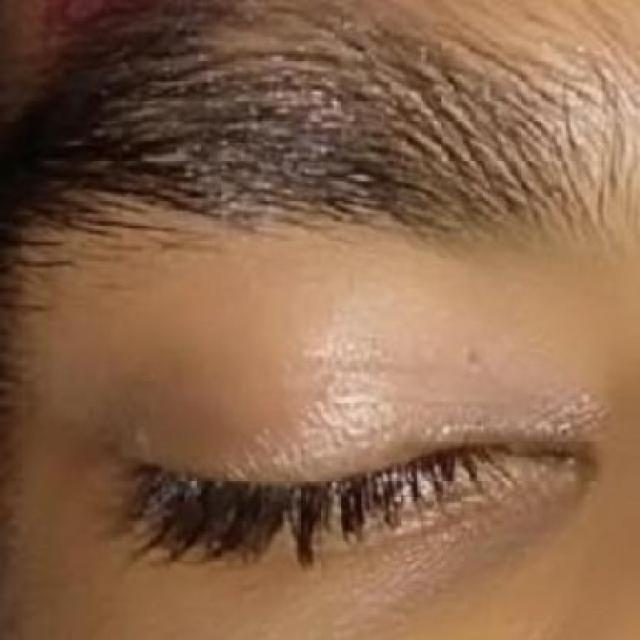drowsy: (97, 348, 580, 632)
